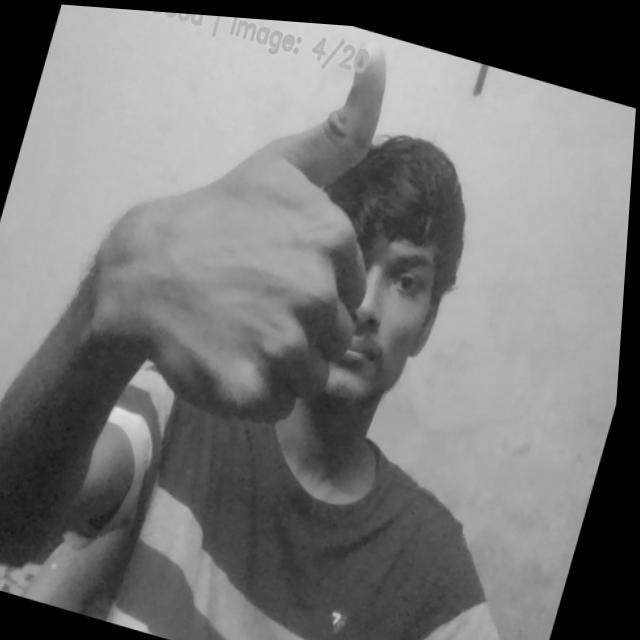Good: (77, 6, 436, 446)
